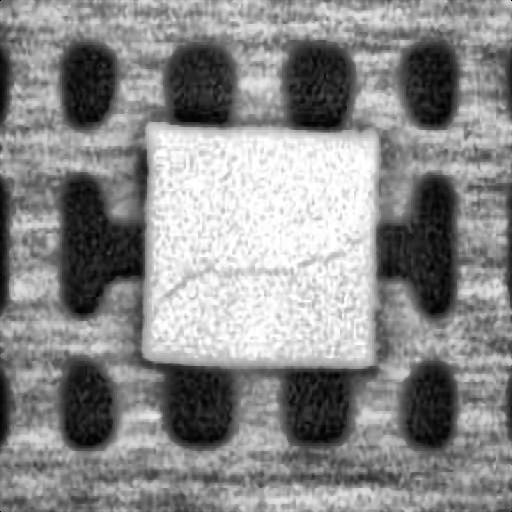DIE_CRACK: (158, 244, 344, 300)
